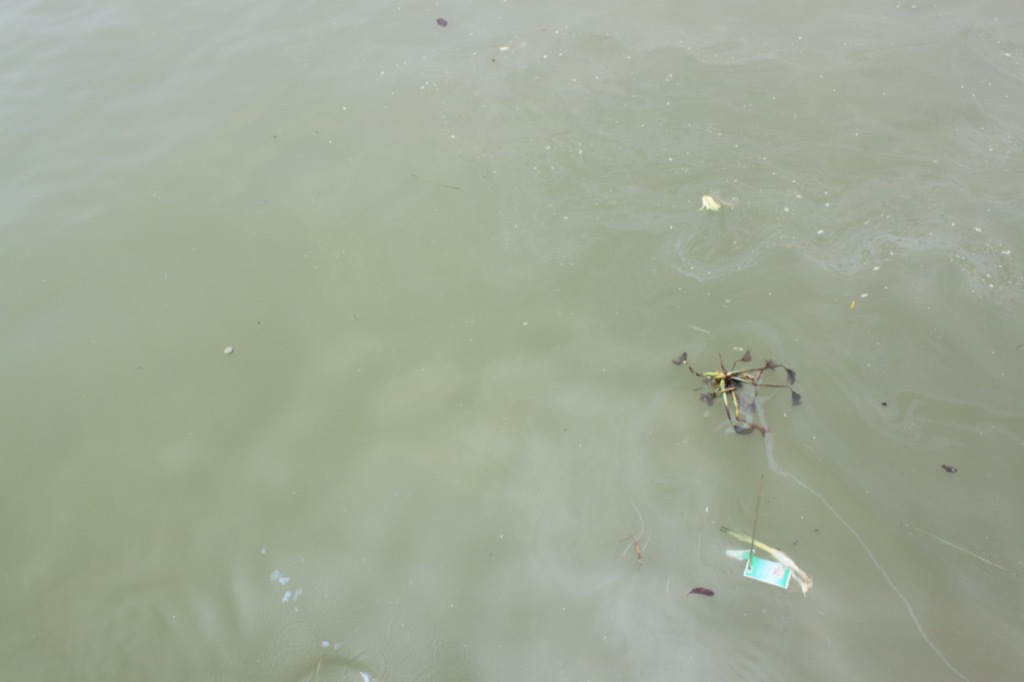organic: (659, 326, 807, 452), (888, 513, 1024, 587), (694, 185, 748, 221), (750, 467, 778, 534), (615, 525, 650, 577), (680, 579, 719, 606), (935, 458, 961, 480), (430, 12, 454, 34), (874, 392, 896, 415), (809, 519, 825, 539), (488, 54, 501, 69)
plastic: (721, 542, 796, 594), (207, 335, 250, 369)
